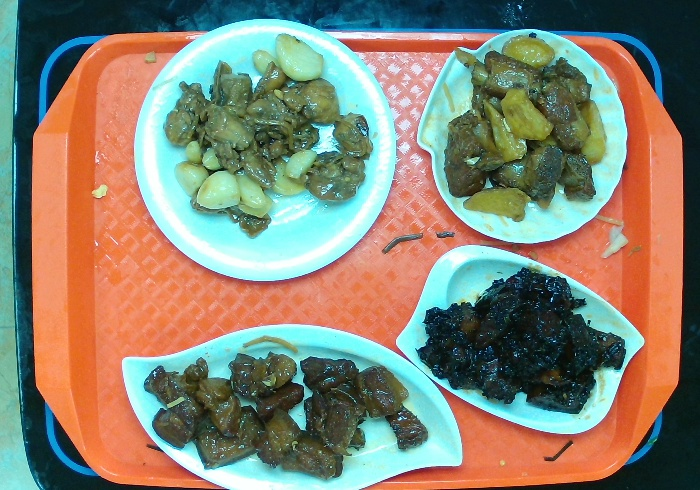RJxy-Bei_Ke_Wan: (415, 26, 629, 245)
RJxy-Jian_Jiao_Fang_Die: (394, 242, 647, 436)
RJxy-Jian_Jiao_Pan: (119, 321, 465, 490)
RJxy-Yuan_Pan: (132, 17, 398, 283)
